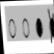correct: (33, 12, 44, 39)
no answer: (20, 13, 31, 40)
not correct: (46, 7, 54, 50)
